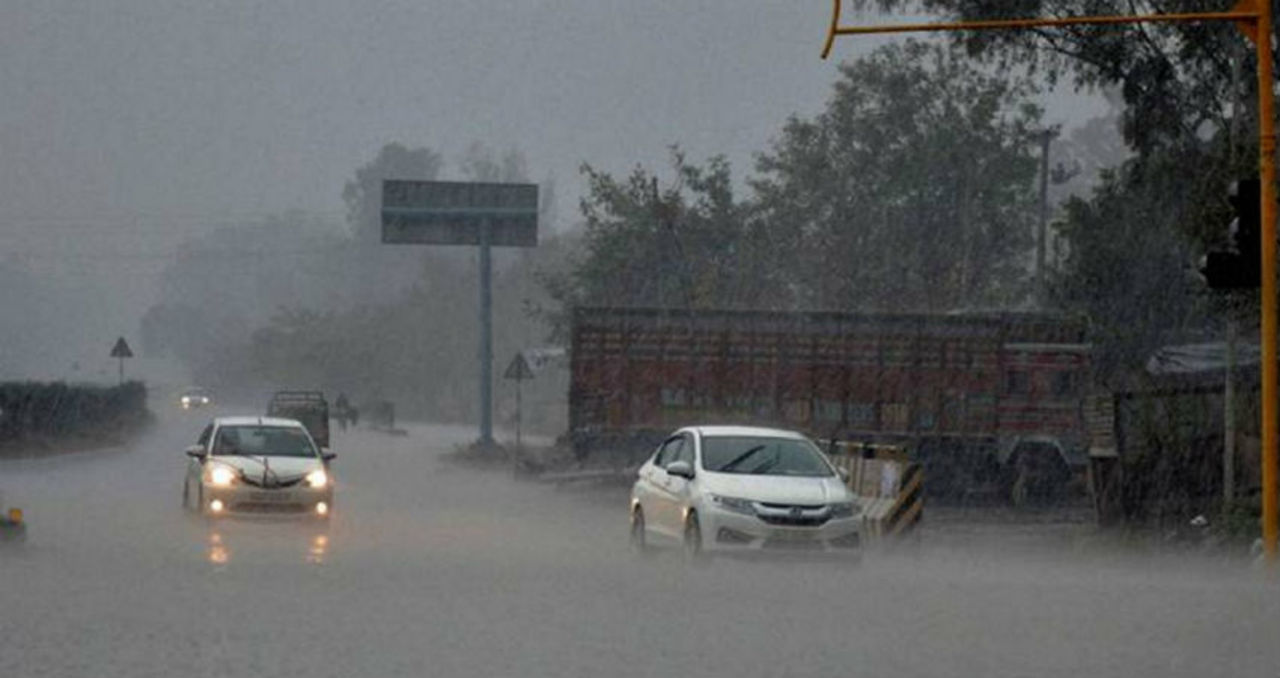car: (620, 424, 870, 557), (180, 417, 335, 519), (178, 386, 207, 409)
truck: (568, 301, 1091, 505), (265, 391, 330, 475)
